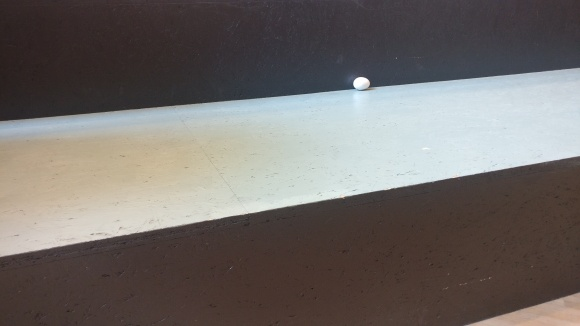egg: (352, 76, 371, 91)
